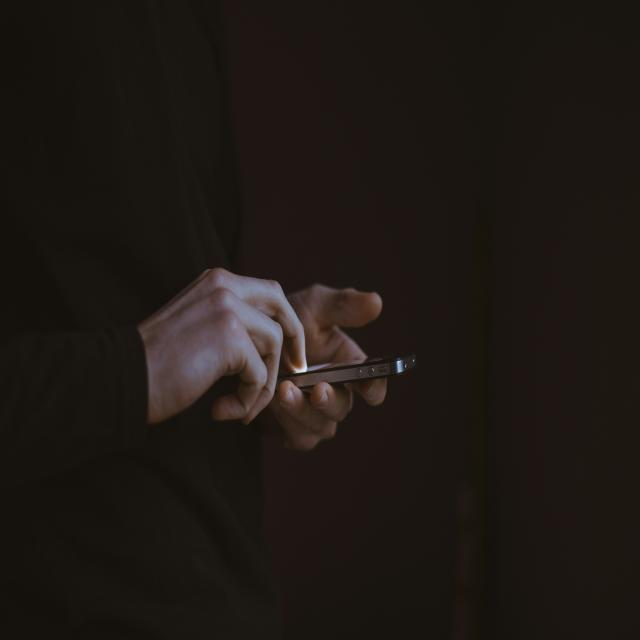Mobile: (210, 318, 419, 427)
